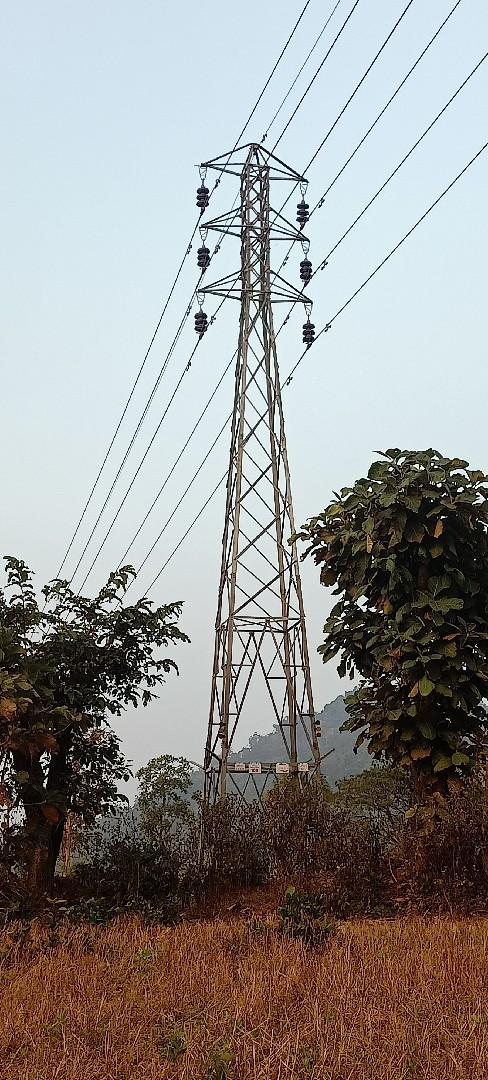GSM Antenna: (181, 136, 324, 756)
